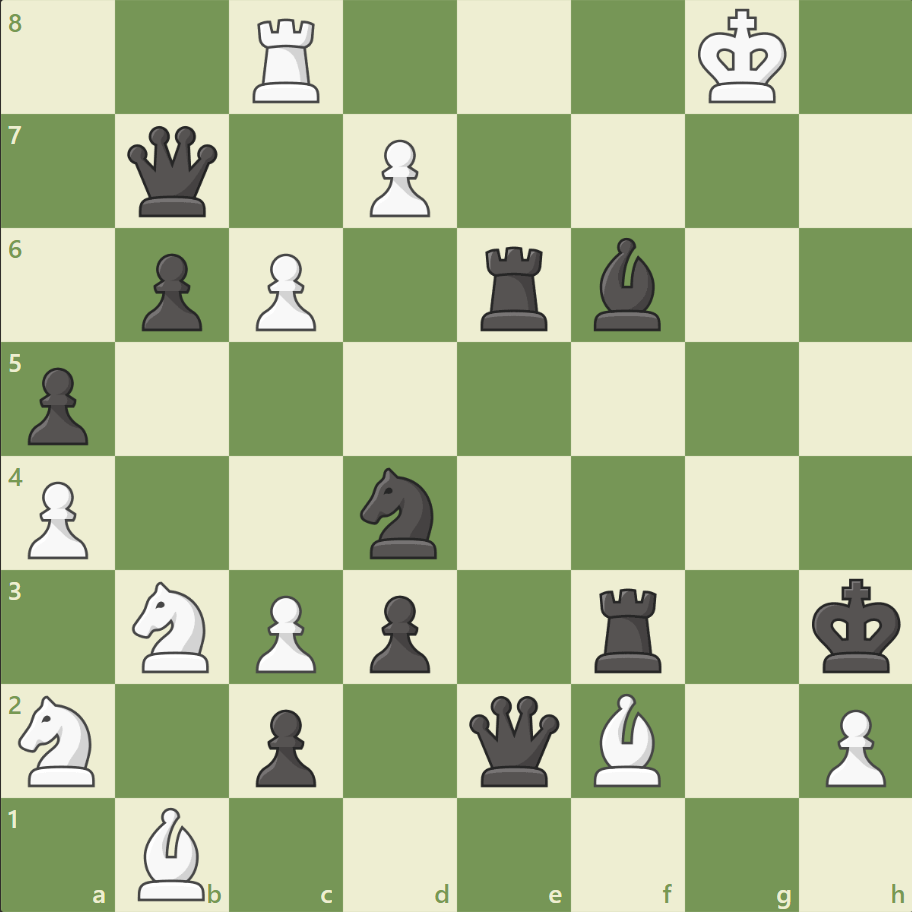B: (585, 687, 669, 790), (131, 801, 215, 904)
K: (692, 4, 792, 112)
N: (124, 575, 222, 677), (11, 688, 108, 791)
P: (247, 246, 322, 337), (20, 473, 95, 564), (247, 586, 322, 677), (361, 132, 435, 223), (815, 700, 889, 791)
R: (246, 12, 329, 109)
b: (585, 233, 669, 336)
k: (806, 571, 906, 679)
n: (351, 461, 449, 564)
p: (133, 246, 208, 337), (20, 359, 95, 450), (247, 700, 322, 791), (361, 586, 435, 677)
q: (124, 122, 223, 222), (464, 690, 563, 789)
r: (473, 239, 556, 336), (587, 579, 670, 676)
